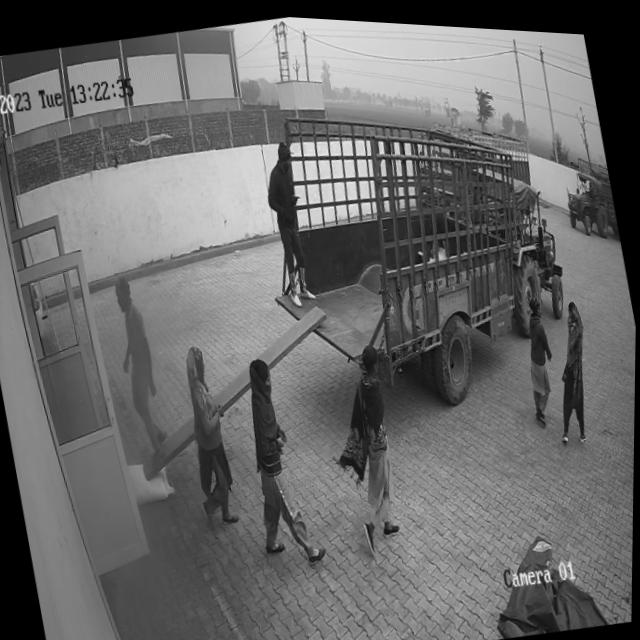sack: (127, 454, 179, 506)
